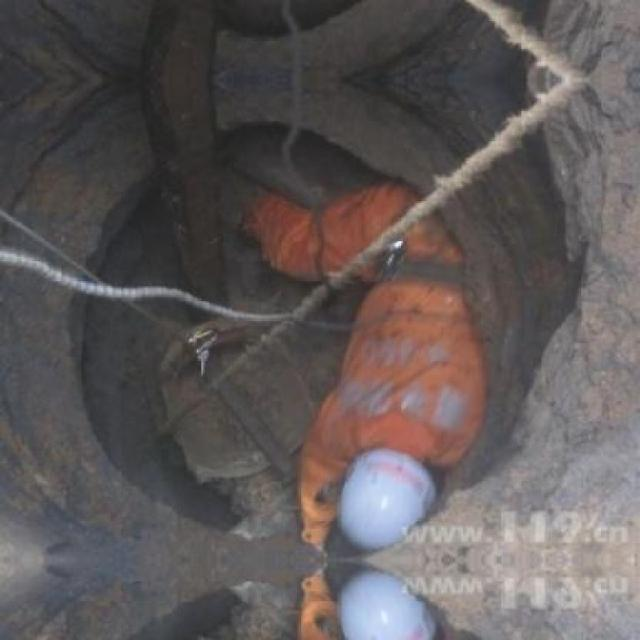hat: (326, 446, 440, 553)
